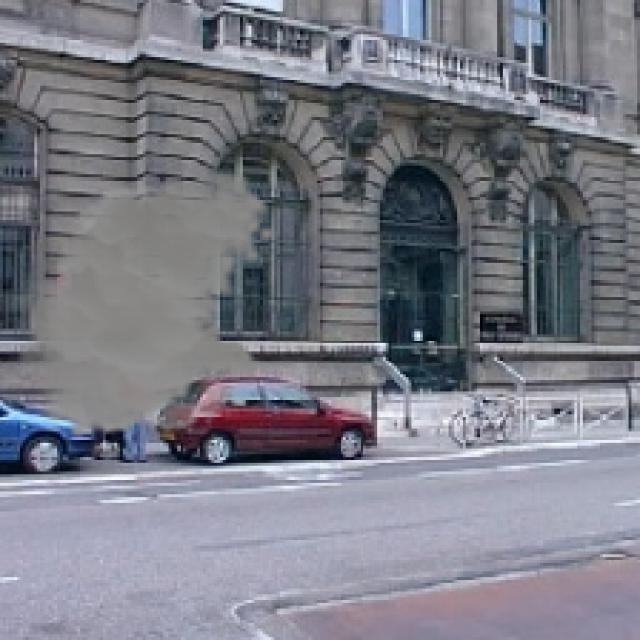Smoke: (2, 171, 278, 440)
